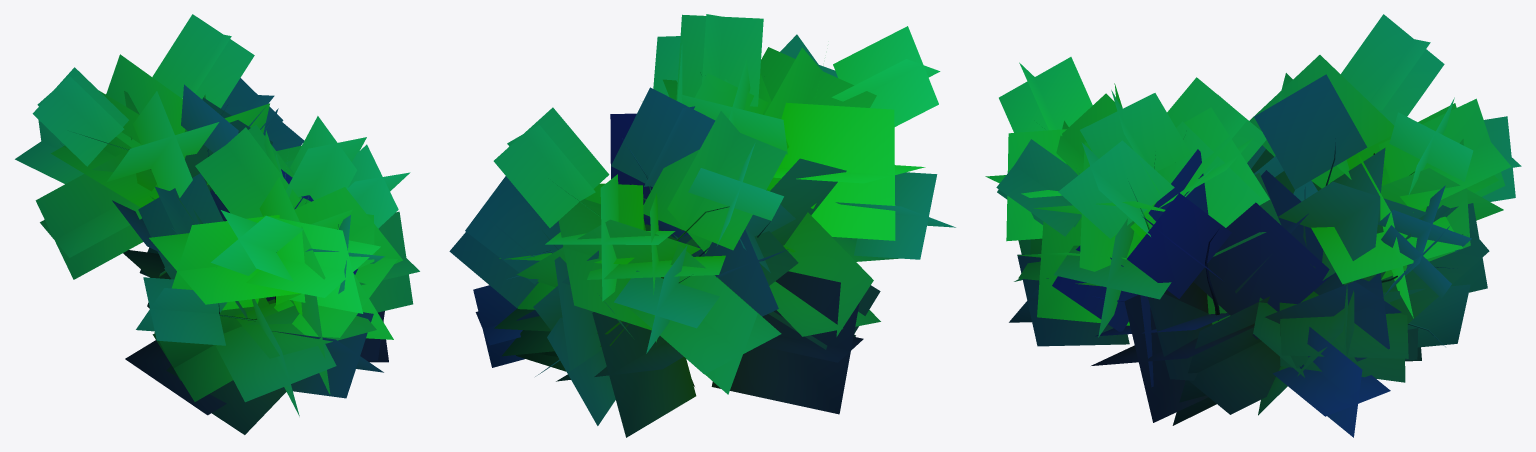
The model's file is Bush6.fbx.
3 renders of one model, left to right at view 1: azimuth 30°, elevation 25°; view 2: azimuth 150°, elevation 25°; view 3: azimuth 270°, elevation 25°, orthographic. The views are drawn at different scales.
Parts seen in each view (by area): view 1: Tree_1; view 2: Tree_1; view 3: Tree_1, Tree_0.
Boxes of the visible parts, x1,y1,x2,y2 form: Tree_1: [15, 14, 419, 434]; Tree_1: [449, 14, 955, 437]; Tree_1: [985, 14, 1521, 437]; Tree_0: [1042, 127, 1462, 368].
Bounding box in the file's own units: 196 × 184 × 264.
